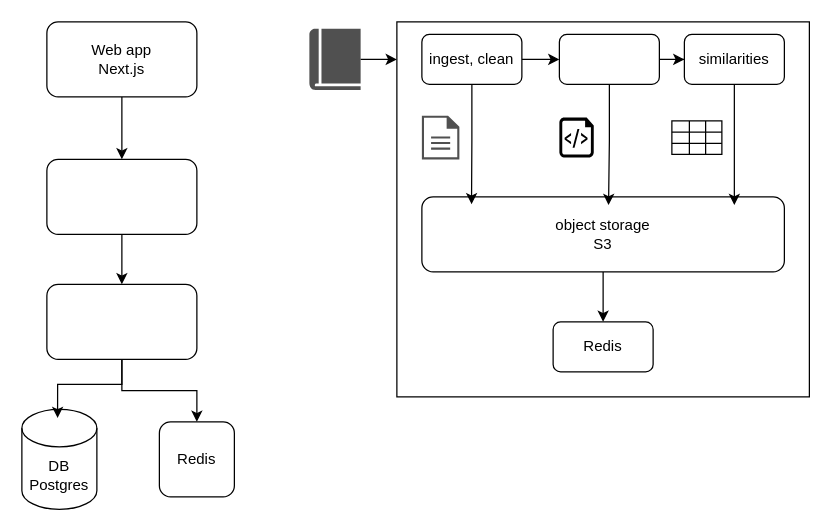
This 831x531 diagram has some shape labels left out. The shapes that lost their labels are listed below. From the top down, each one's centre as x and y in pixels, then its label:
At [608,58]: "vectorize".
At [121,196]: "API gateway FastAPI".
At [121,321]: "Recommendation service".
